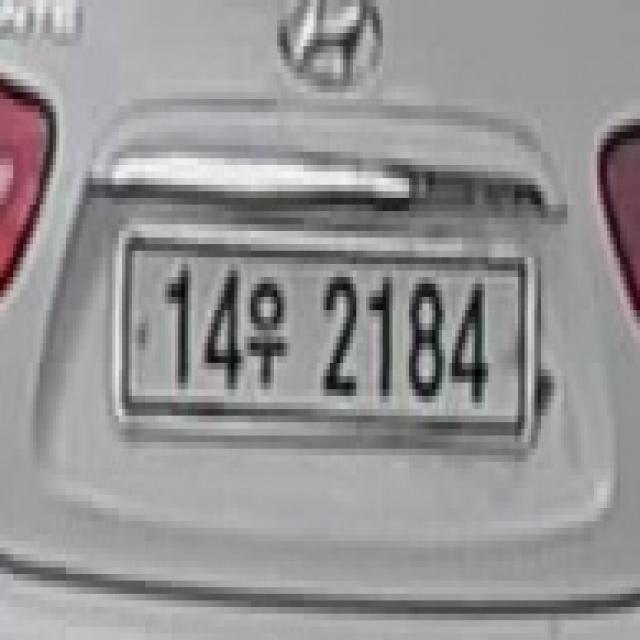1: (158, 251, 198, 396), (366, 271, 403, 409)
2: (317, 264, 363, 416)
4: (449, 264, 495, 409), (201, 258, 244, 402)
8: (399, 270, 452, 416)
license_plate: (112, 218, 541, 468)
u: (248, 264, 290, 396)
